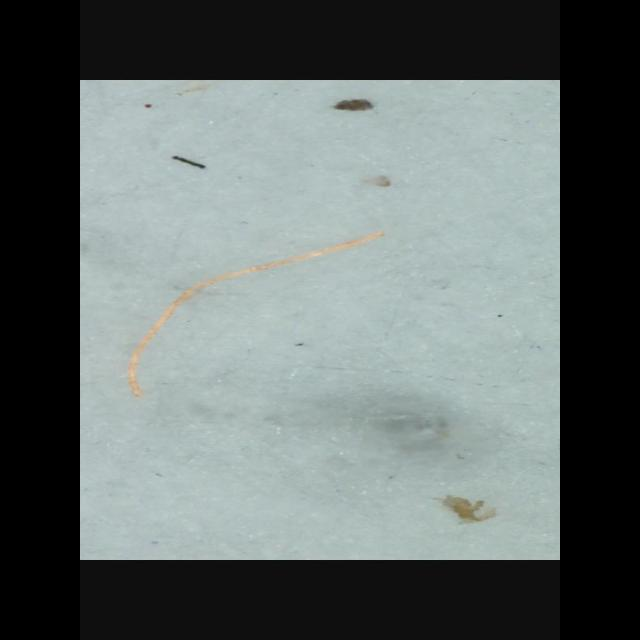Fibre: (115, 230, 395, 402)
